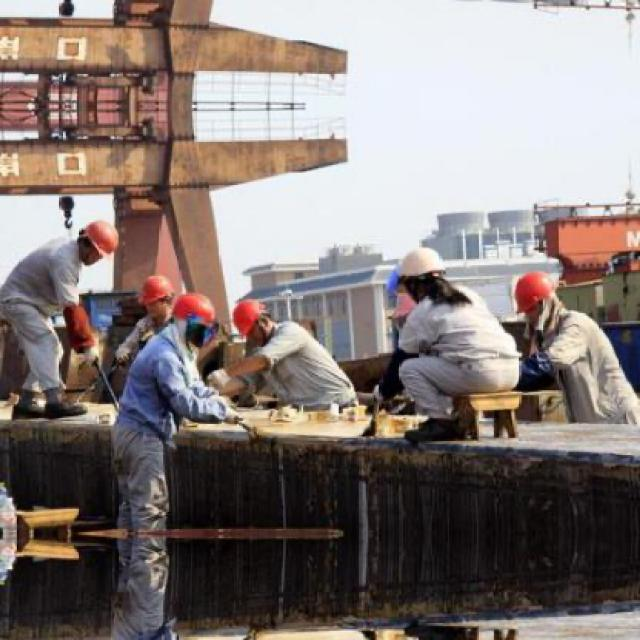helmet: (398, 244, 451, 299), (508, 268, 555, 320), (74, 214, 121, 264), (137, 273, 180, 324), (174, 293, 217, 341), (229, 300, 269, 342)
